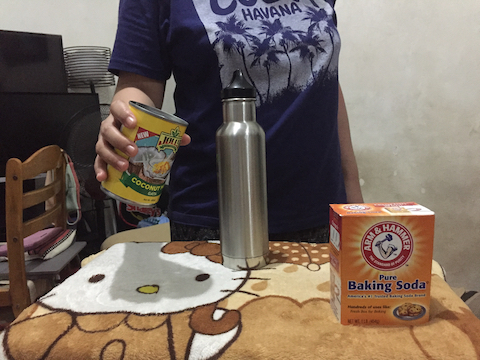bottle: (214, 66, 277, 271)
box: (323, 198, 442, 329)
can: (97, 94, 192, 214)
grab: (90, 96, 143, 185)
